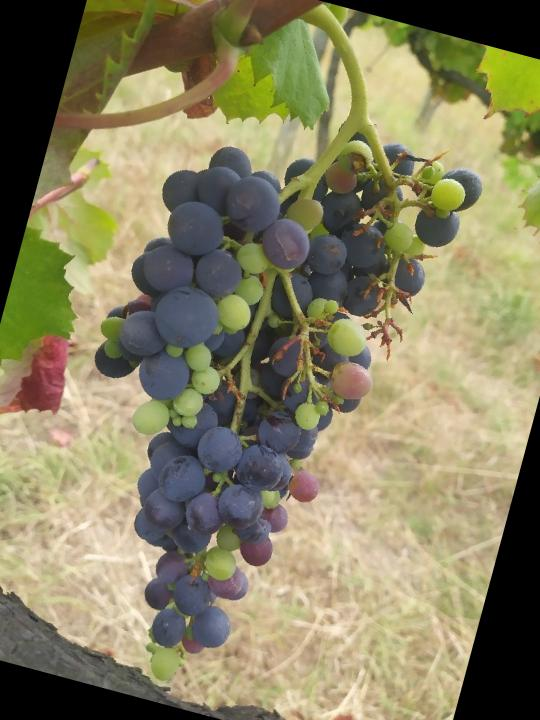grape: (11, 81, 490, 720)
